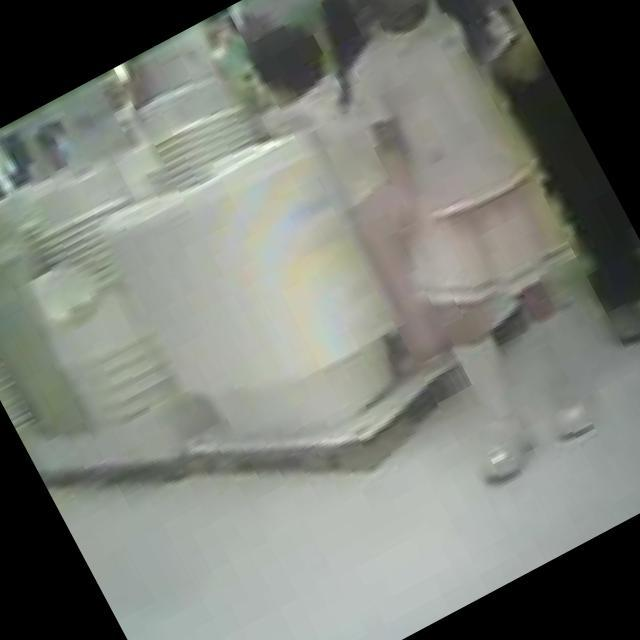person: (233, 0, 640, 487), (235, 12, 488, 384), (397, 0, 640, 351)
